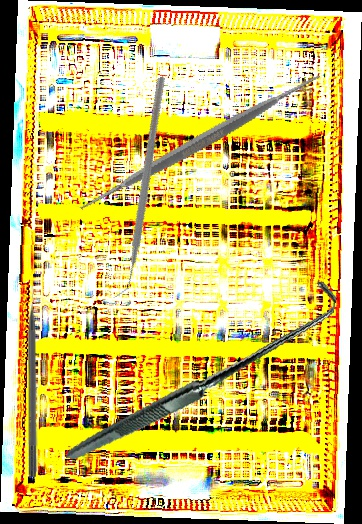Chopper: (39, 75, 236, 300)
Hook Surgical: (66, 240, 339, 503)
Pusher: (28, 280, 39, 477)
Spatula Surgical: (64, 6, 335, 278)
